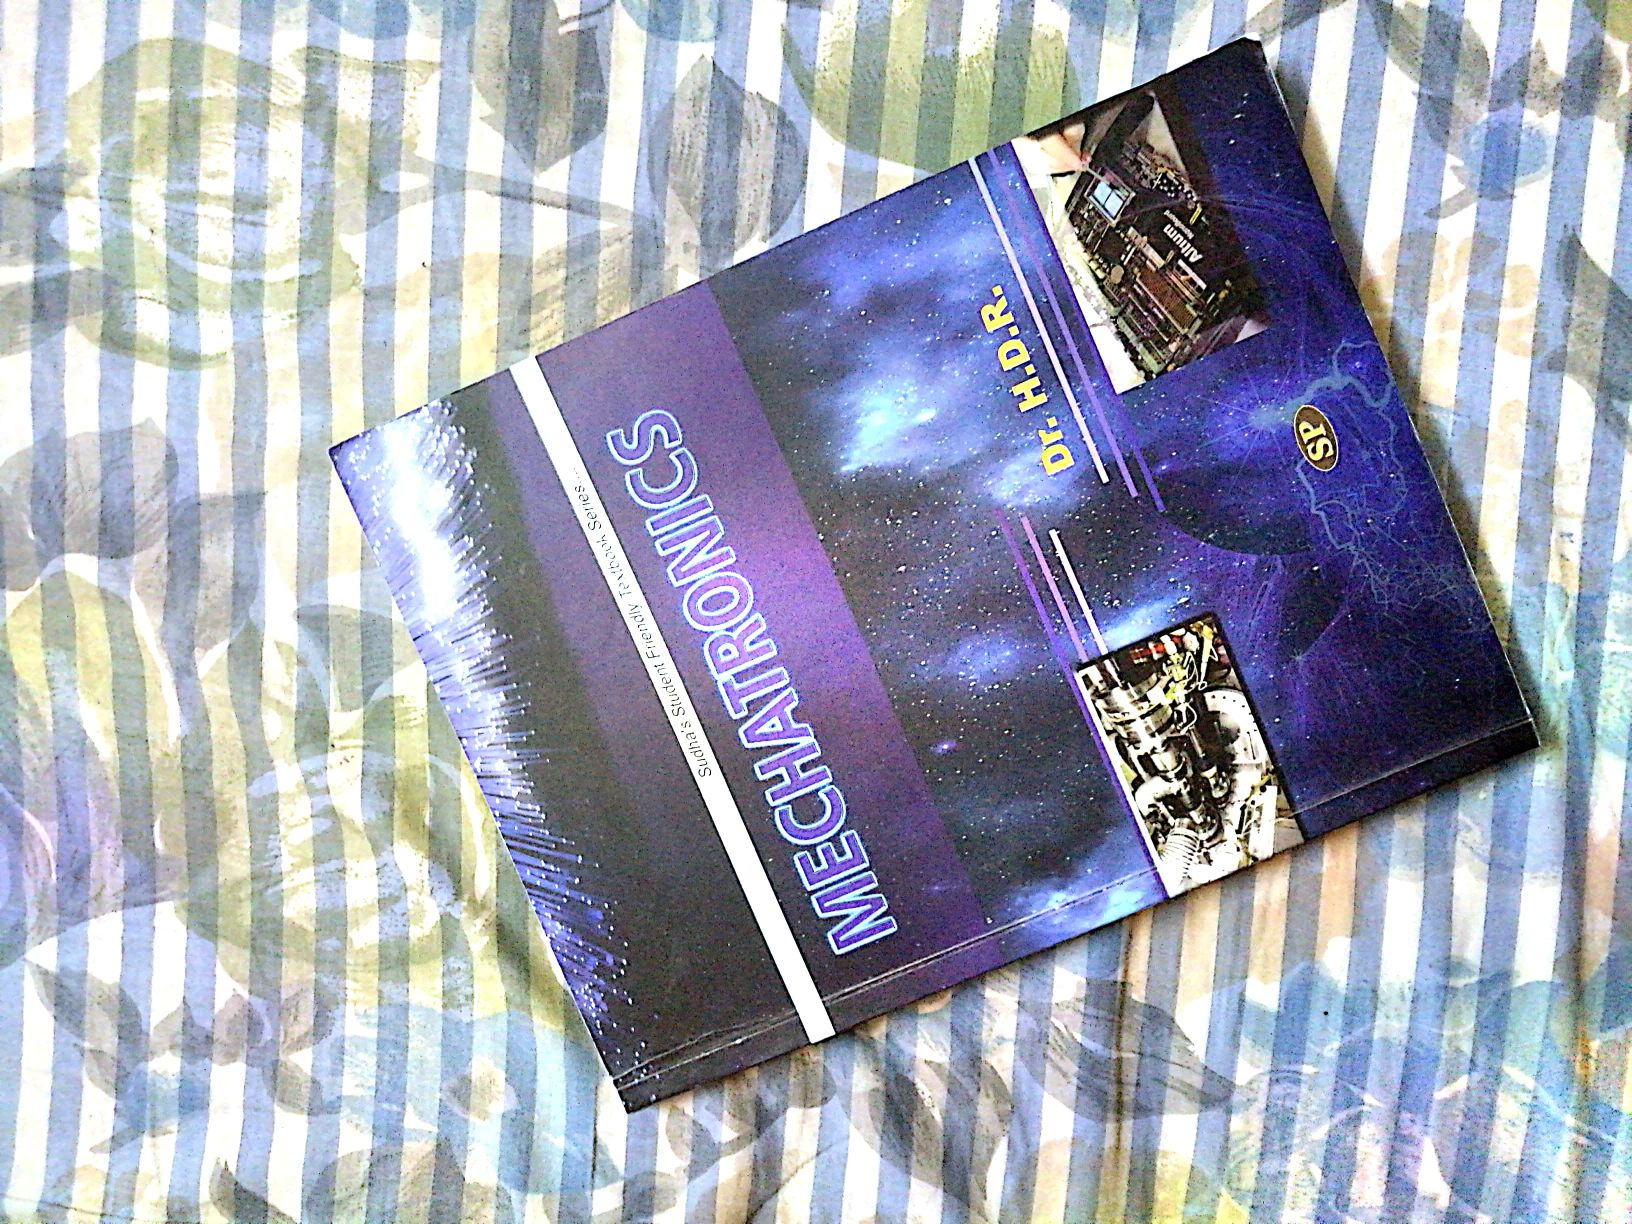mechatronics: (335, 95, 1516, 1023)
